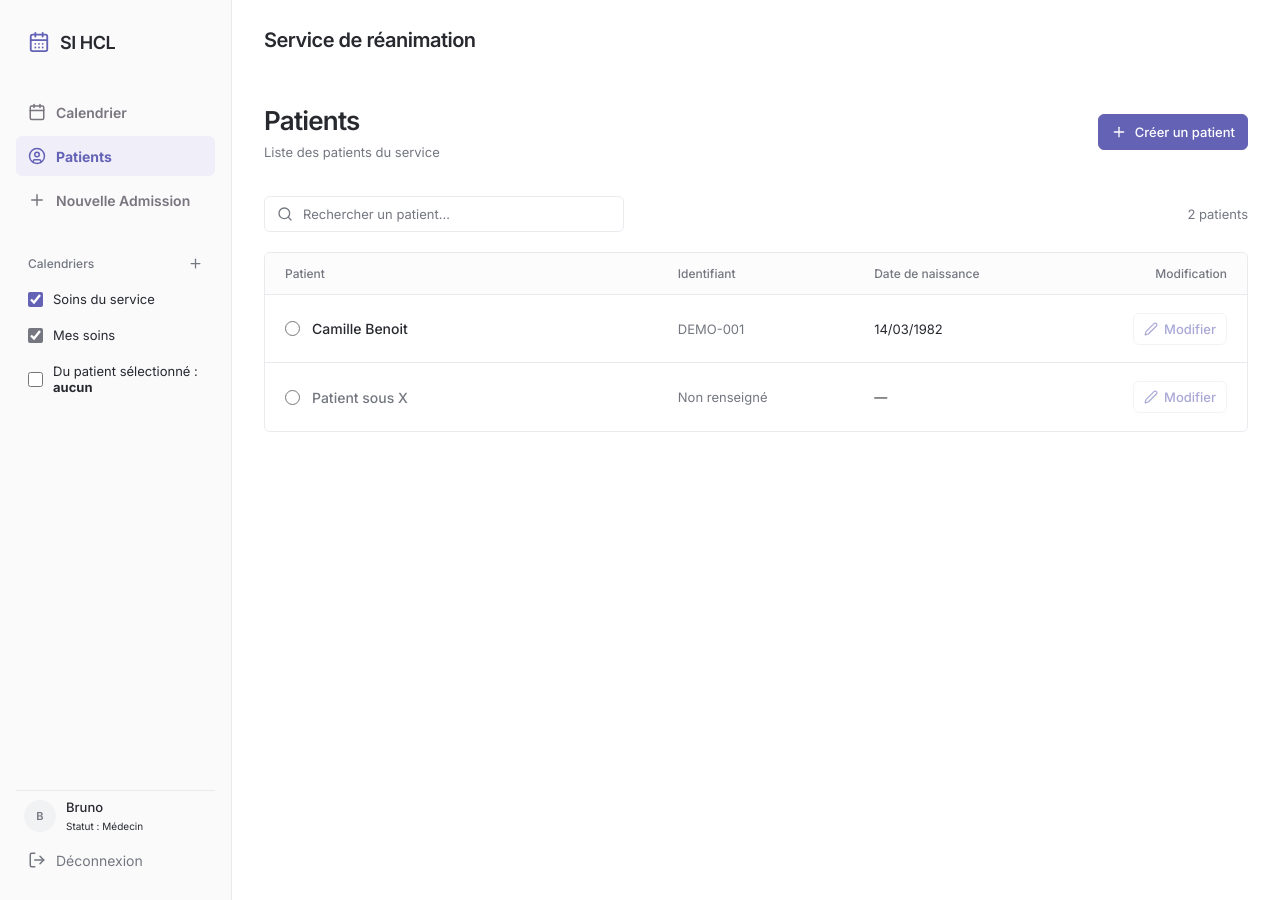
it: filters the list with the search box
The image size is (1280, 900).
Type "benoît" into the search field with placeholder "Rechercher un patient…". click: point(456, 214)
box: [301,205,611,223]
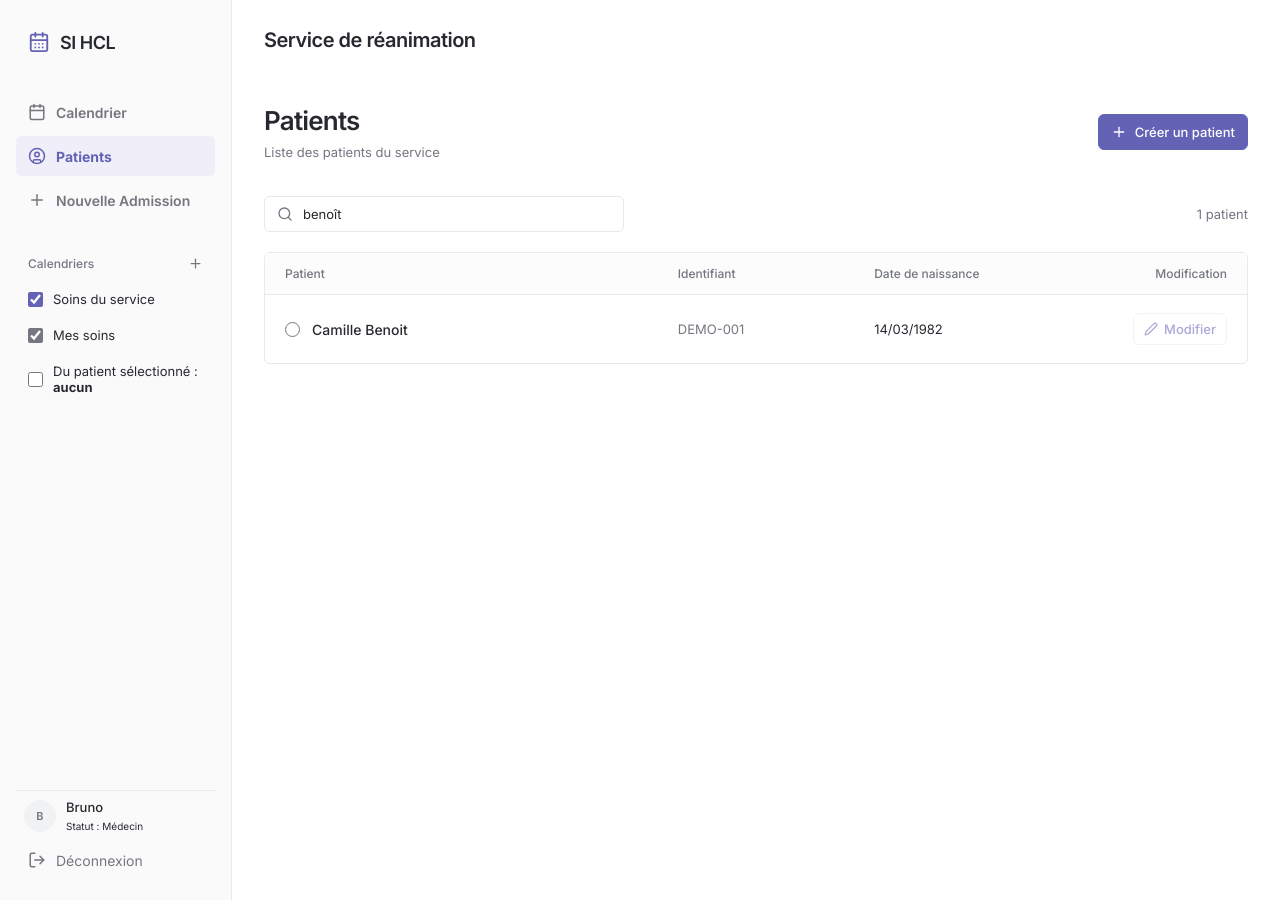
Check: the text "1 patient" is shown, box [1197,206,1248,222]
